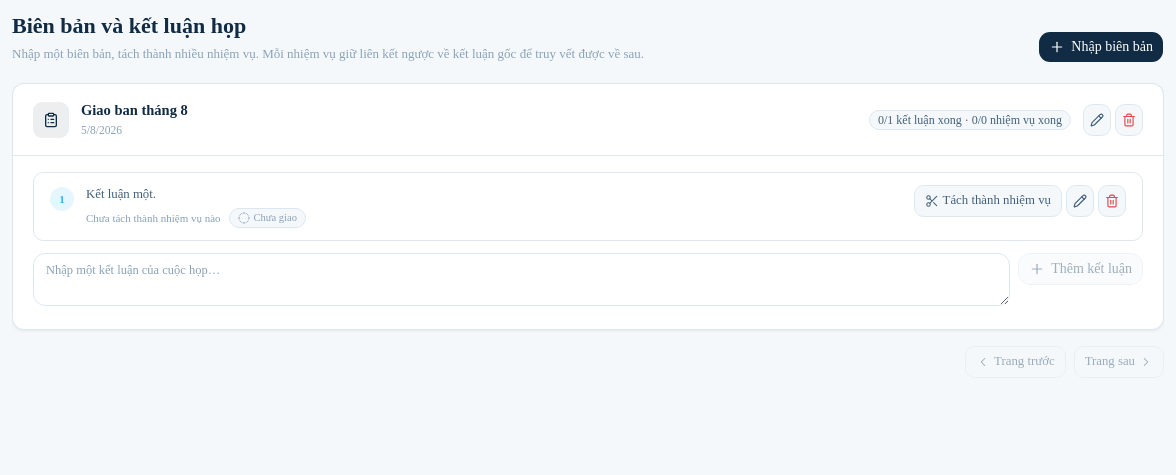
Test: Sửa kết luận tại chỗ — Enter lưu, Shift+Enter xuống dòng, Esc huỷ › Esc huỷ: ô nhập biến mất, câu trở lại, không gửi
The width and height of the screenshot is (1176, 475).
Click the button named "Sửa kết luận số 1" at (1080, 201), box x1=1066 y1=185 x2=1094 y2=217
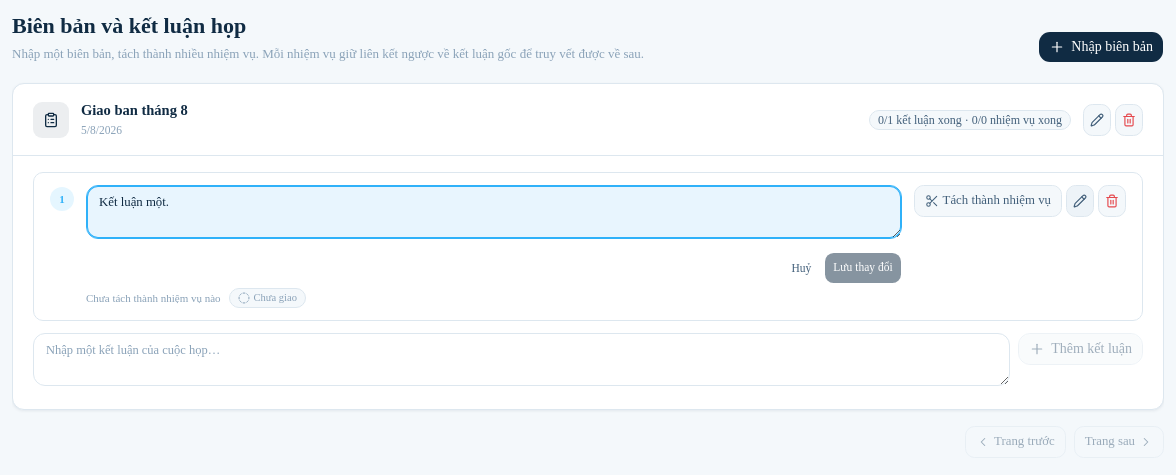
Press Escape in the text box with id "sua-ket-luan-k1", box x1=86 y1=185 x2=902 y2=239
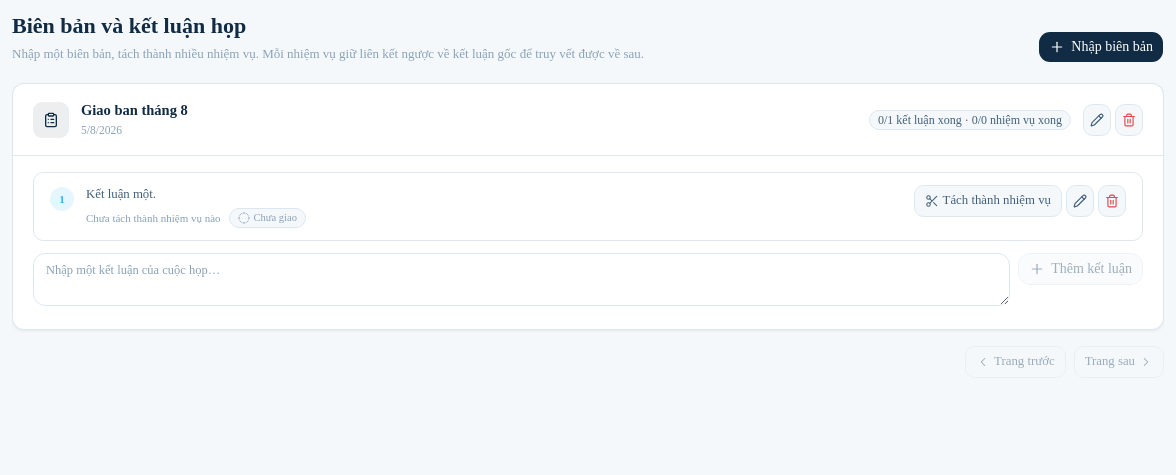
Result: the text box with id "sua-ket-luan-k1" is gone
Result: the text "Kết luận một." is shown at x1=86 y1=187 x2=156 y2=201
